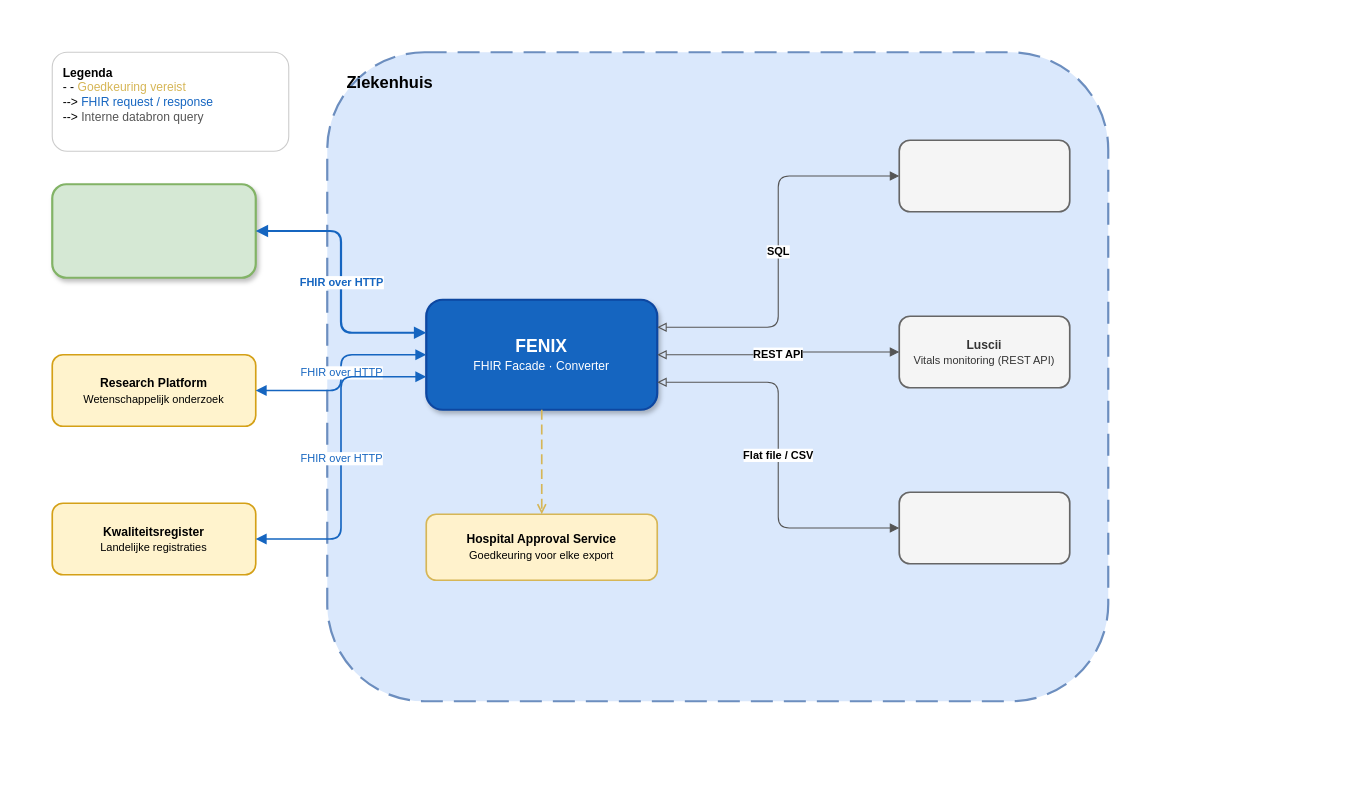
Image size: 1357x807. Some labels were removed from this diagram. The shapes that lost their labels are listed below. From the top down, each one's centre as x and y in pixels, then its label:
At point 984,175: "EPD / HIX Patientdossier (database)".
At point 154,232: "HIPS Platform Health Information Platform Services".
At point 984,527: "SIM Registraties (flat file / CSV)".
